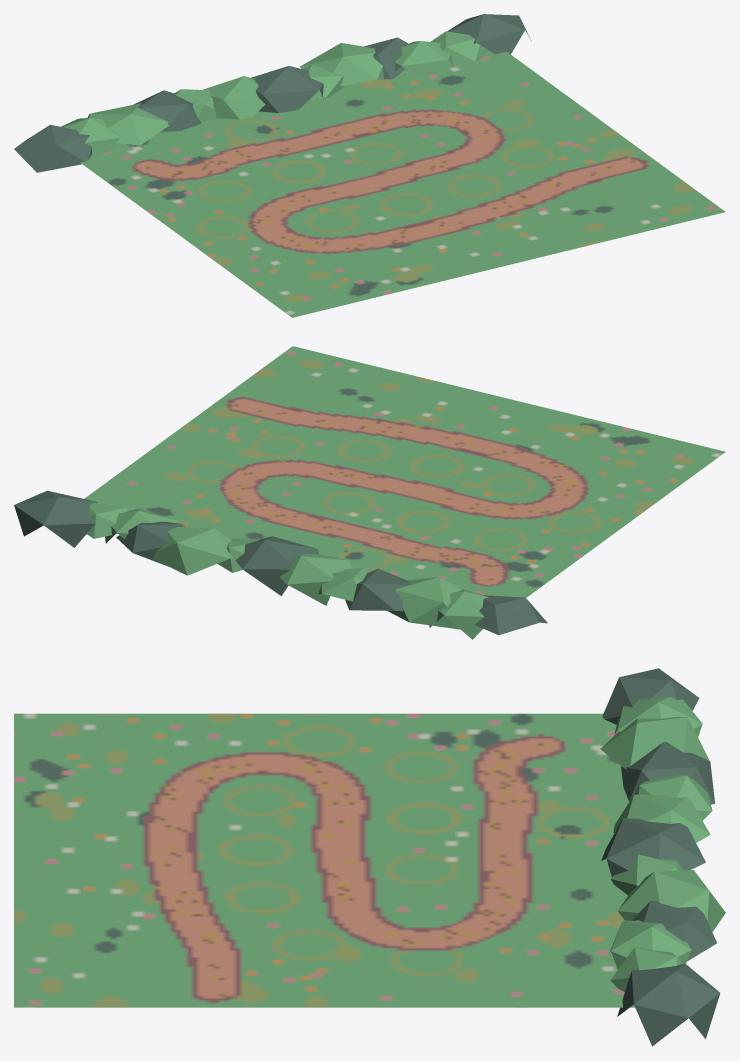
Rendered from ground.glb.
The picture shows the model from 3 angles, top to bottom: view 1: azimuth 30°, elevation 25°; view 2: azimuth 150°, elevation 25°; view 3: azimuth 270°, elevation 25°; orthographic projection. The views are drawn at different scales.
Visible parts, largest first — view 1: Ground, Hill0; view 2: Ground, Hill0; view 3: Ground, Hill0.
Boxes of the visible parts, box(x1,y1,x2,y2) form: Ground: box(80, 51, 725, 317); Hill0: box(14, 14, 531, 172); Ground: box(84, 346, 725, 597); Hill0: box(14, 490, 547, 639); Ground: box(14, 713, 634, 1007); Hill0: box(600, 668, 725, 1046).
Bounding box in the file's own units: 17.64 × 1.29 × 15.15.
3 materials, 1 textured.
